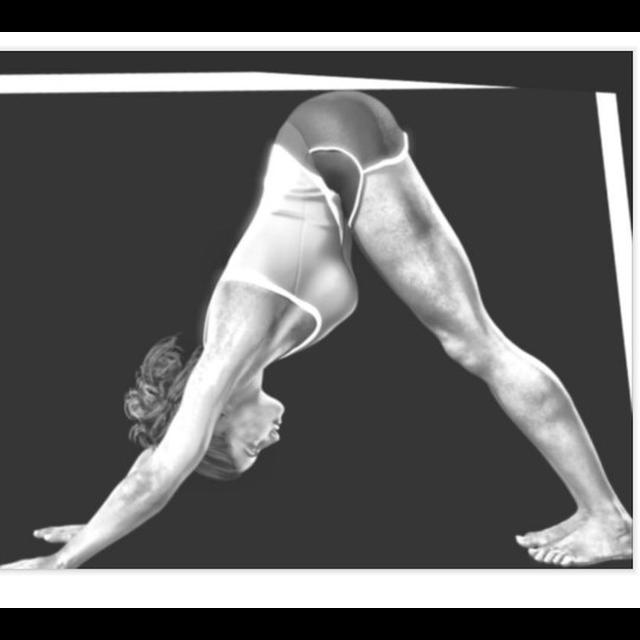Downward-Facing_Dog: (13, 86, 633, 567)
